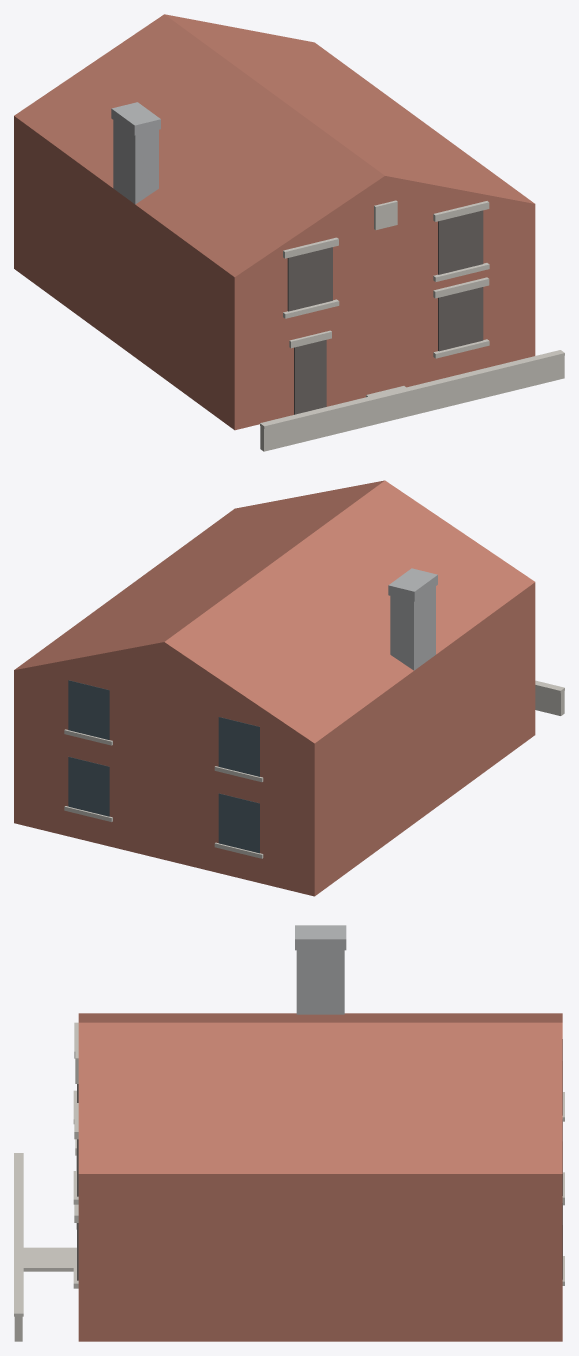
File: terrace_m1.glb
The picture shows the model from 3 angles, top to bottom: view 1: azimuth 30°, elevation 25°; view 2: azimuth 150°, elevation 25°; view 3: azimuth 270°, elevation 25°; orthographic projection. The views are drawn at different scales.
Visible parts, largest first — view 1: terrace_m1; view 2: terrace_m1; view 3: terrace_m1.
Part boxes in pixels (left/top/right/bottom): terrace_m1: left=14, top=14, right=564, bottom=451; terrace_m1: left=14, top=480, right=564, bottom=896; terrace_m1: left=14, top=925, right=564, bottom=1341.
Size of the model in its own units: 9.5 by 7 by 13.7.
